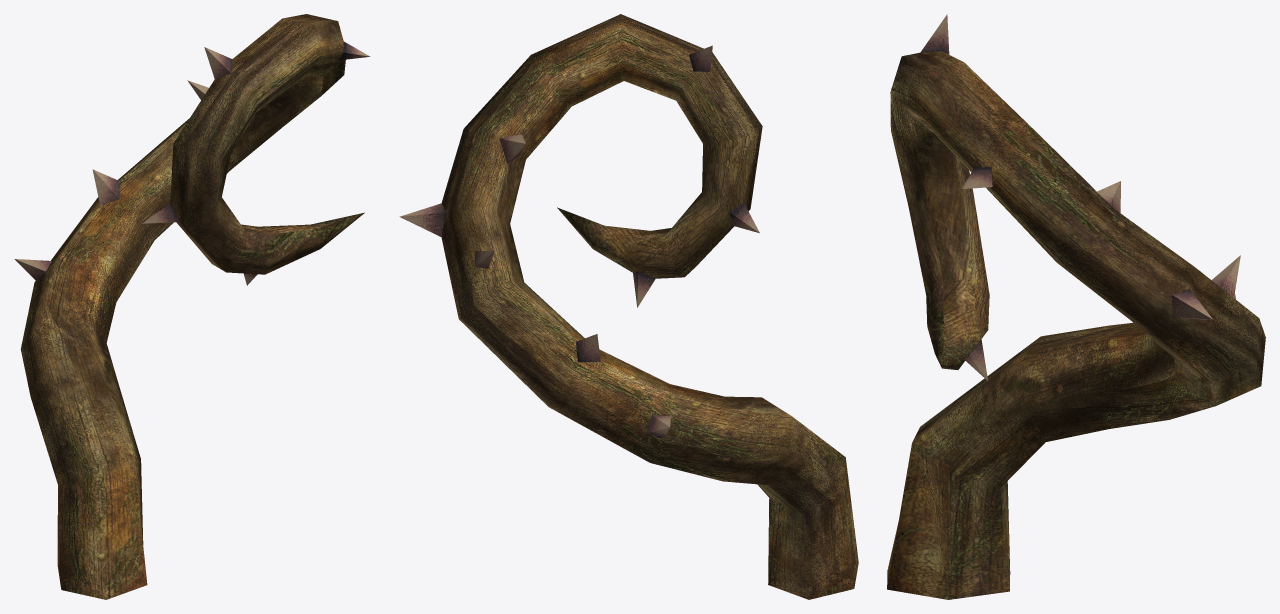
Rendered from obj_mtthund_thorn02.fbx.
The picture shows the model from 3 angles, left to right: view 1: azimuth 30°, elevation 25°; view 2: azimuth 150°, elevation 25°; view 3: azimuth 270°, elevation 25°; orthographic projection. The views are drawn at different scales.
Visible parts, largest first — view 1: obj_mtthund_thorn02; view 2: obj_mtthund_thorn02; view 3: obj_mtthund_thorn02.
Boxes of the visible parts, <box> form: obj_mtthund_thorn02: <box>14,14,370,599</box>; obj_mtthund_thorn02: <box>399,14,858,599</box>; obj_mtthund_thorn02: <box>887,14,1265,599</box>.
Bounding box in the file's own units: 8.03 × 11.22 × 6.04.
